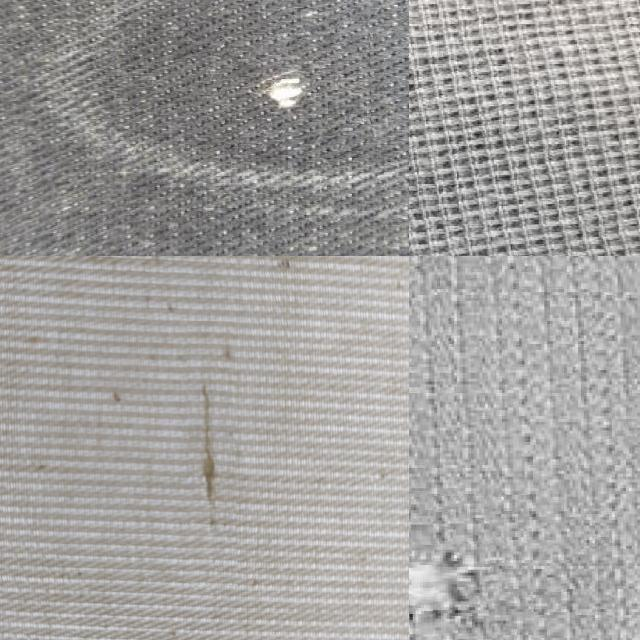other: (409, 496, 532, 640)
stains: (190, 0, 369, 145), (187, 322, 235, 586)
